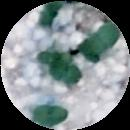Basil: (91, 22, 118, 50), (36, 103, 64, 125), (54, 62, 78, 84), (43, 55, 79, 67)
